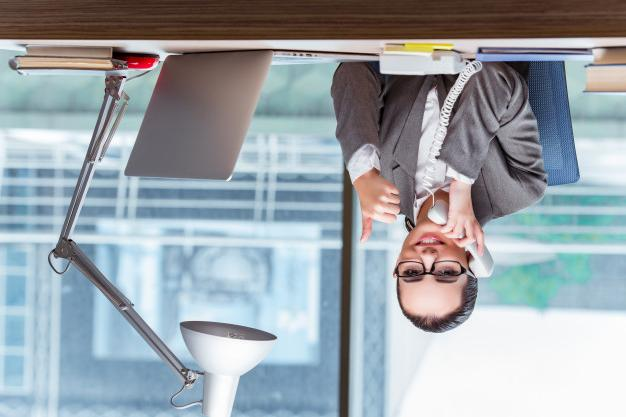thumbsdown: (358, 185, 401, 244)
